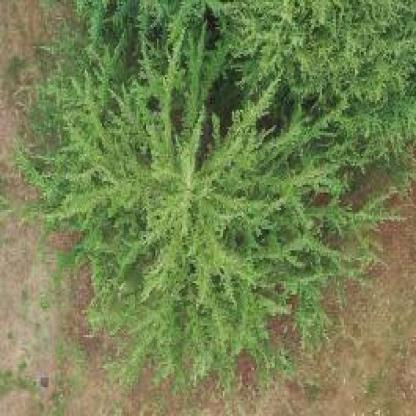Coniferous Tree: (86, 0, 415, 302), (44, 87, 304, 368)
